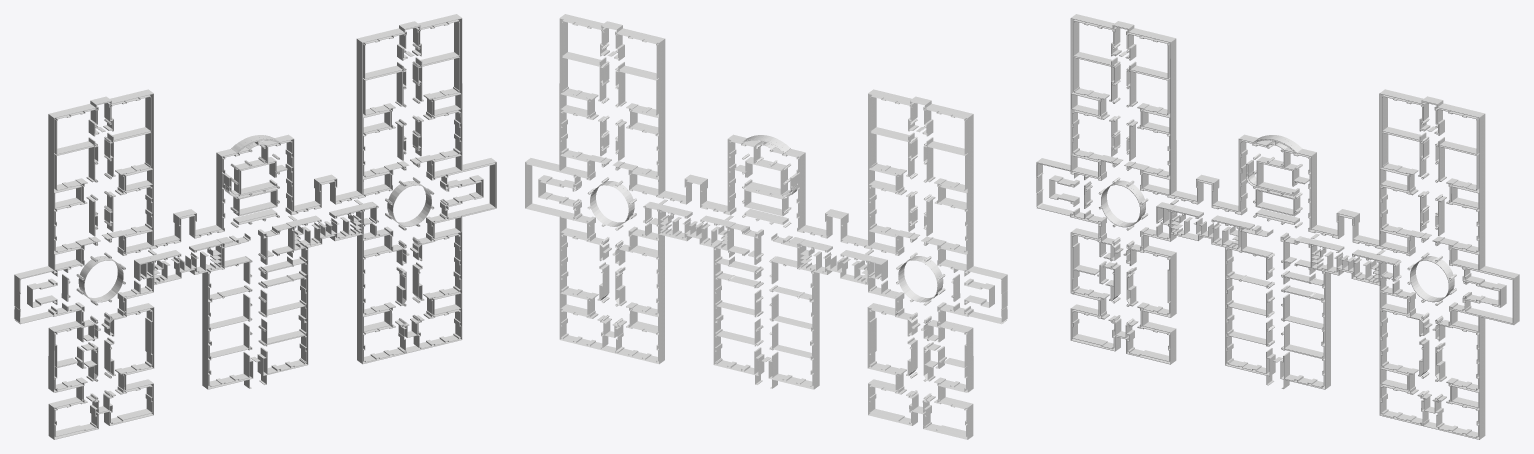
The model's file is wall_1.obj.
The picture shows the model from 3 angles, left to right: view 1: azimuth 30°, elevation 25°; view 2: azimuth 150°, elevation 25°; view 3: azimuth 330°, elevation 25°; orthographic projection.
Parts seen in each view (by area): view 1: walls; view 2: walls; view 3: walls.
Boxes of the visible parts, box(x1,y1,x2,y2) form: walls: box(14, 14, 496, 439); walls: box(525, 14, 1007, 439); walls: box(1036, 14, 1519, 439).
Bounding box in the file's own units: 122 × 79.44 × 2.5.
